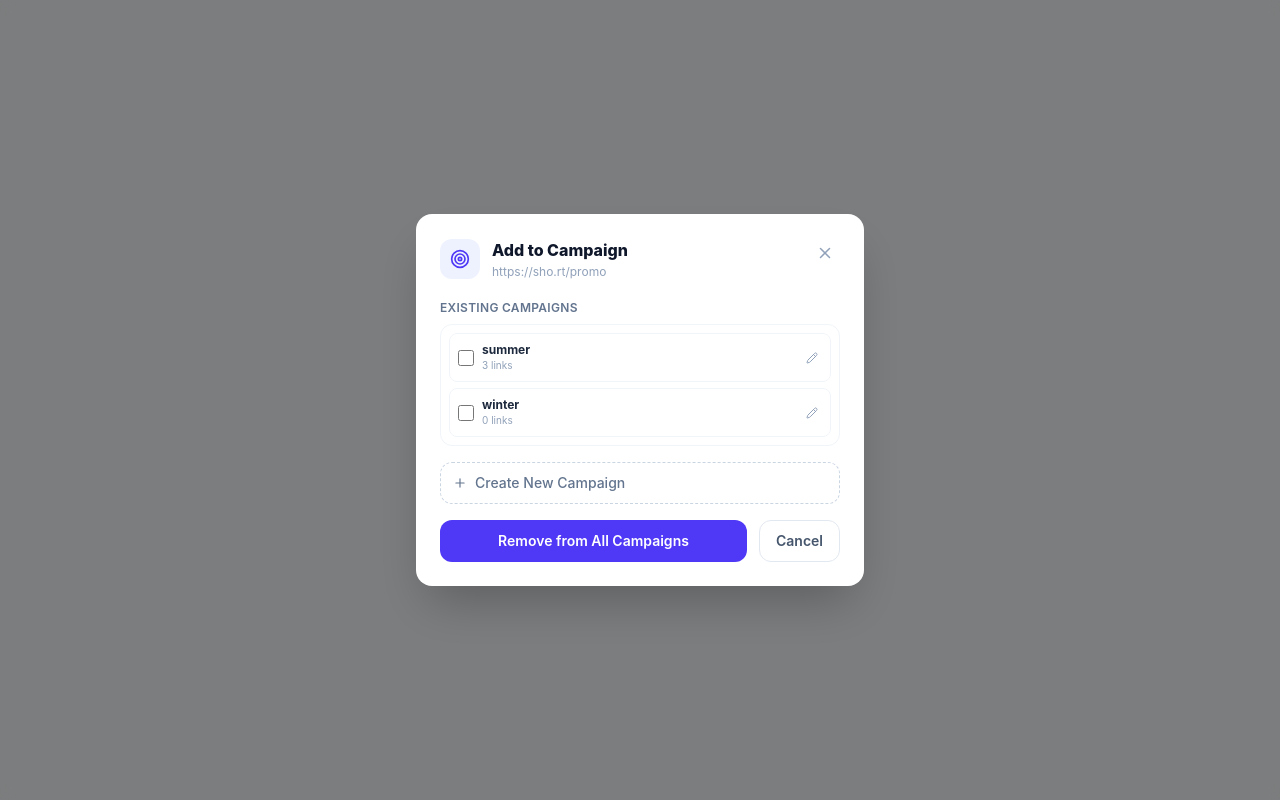
Test: AddToCampaignModal - creating a campaign › rejects a duplicate campaign name
Click the button "Create New Campaign".
click(550, 482)  # box [440, 462, 840, 504]
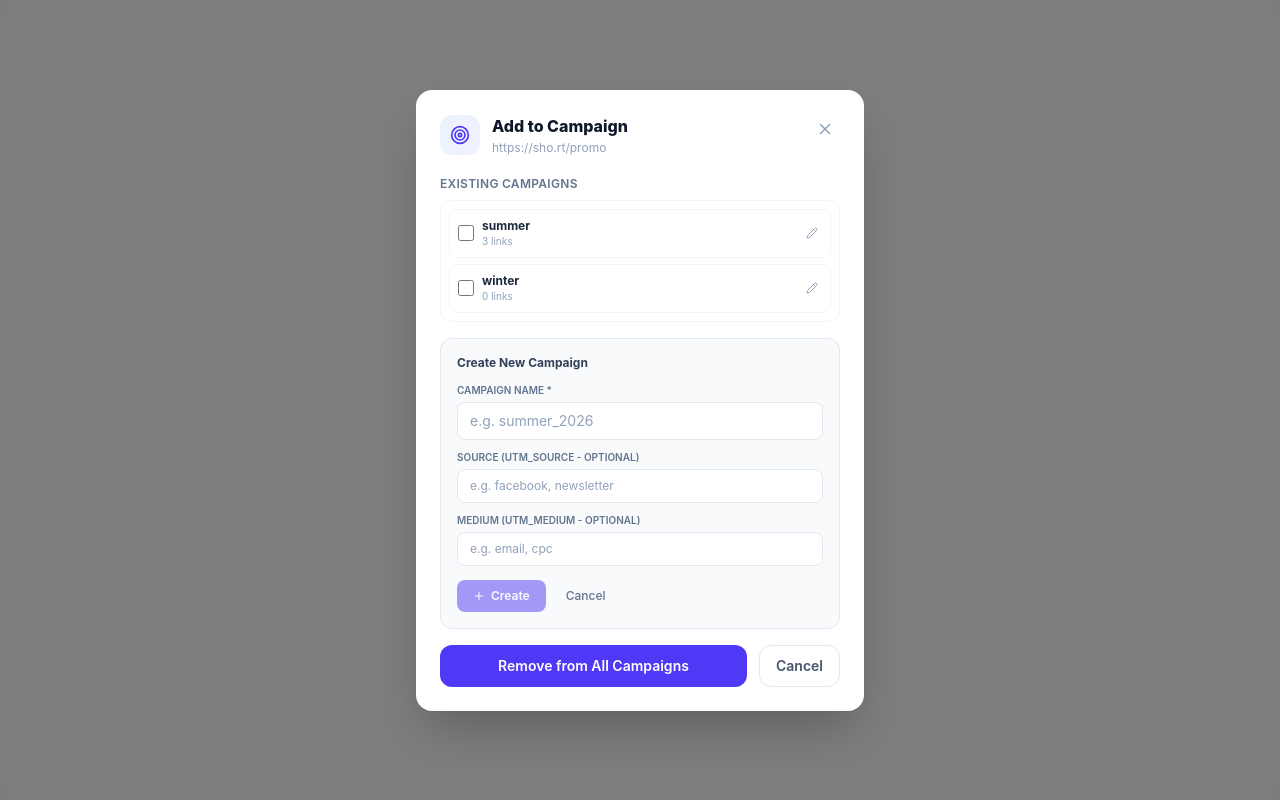
Type "summer" into the field with placeholder "e.g. summer_2026".
click(640, 420); type("summer")  # box [457, 402, 823, 440]
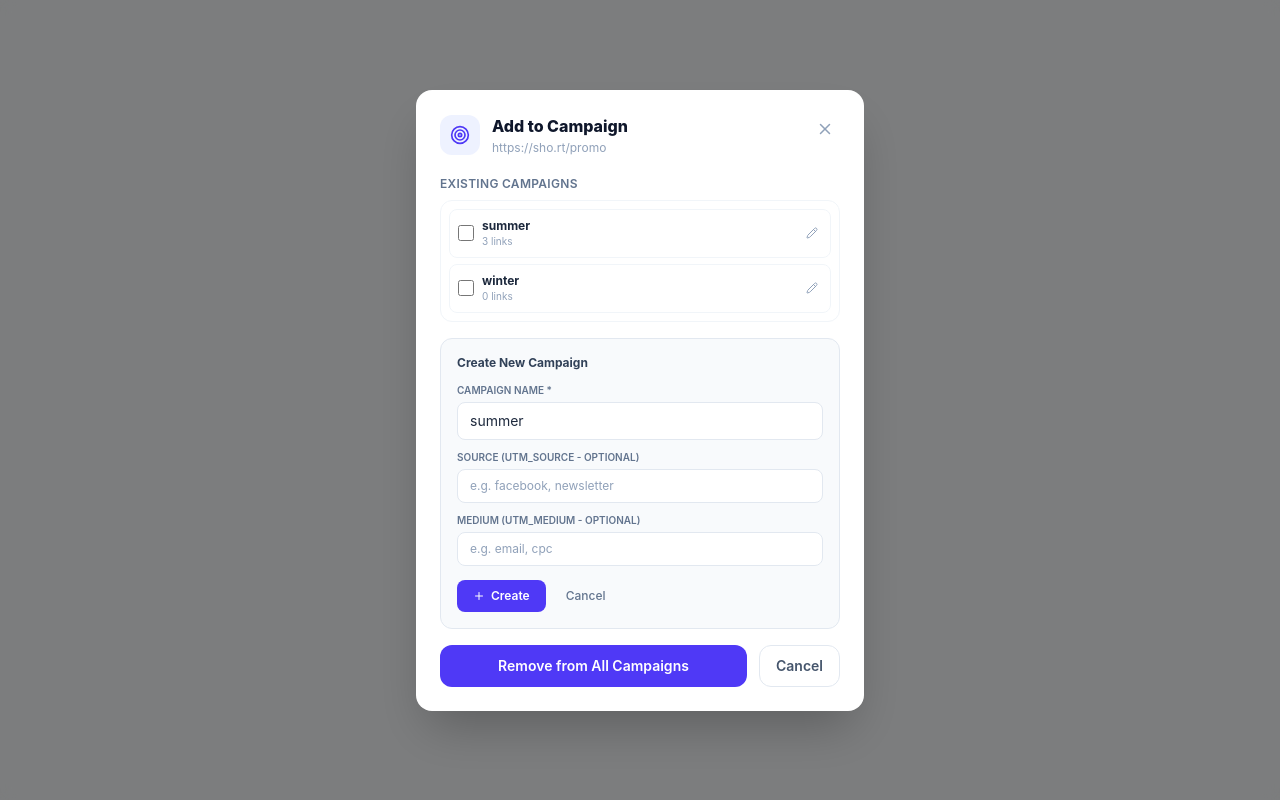
Click the button "Create".
click(501, 596)  # box [457, 580, 546, 612]
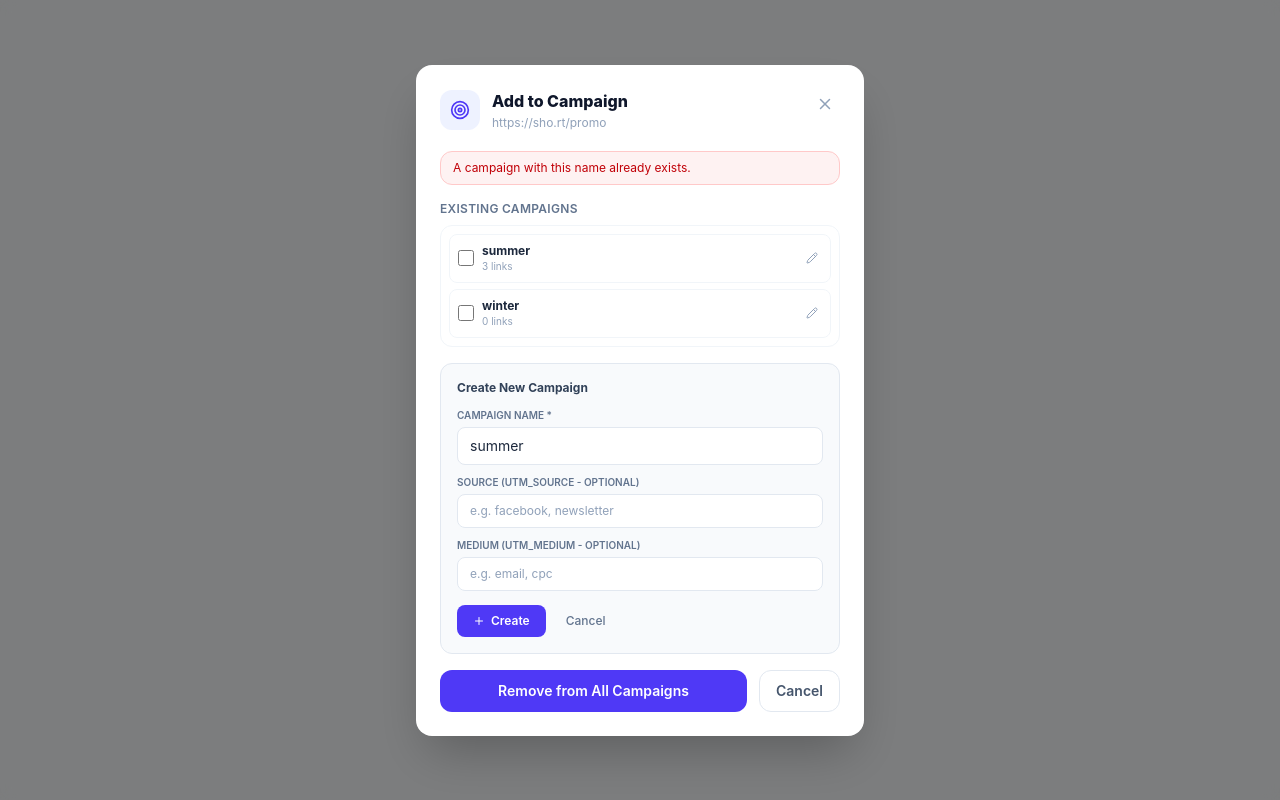
Expected: the text "A campaign with this name already exists." is shown, [440, 150, 840, 184]
